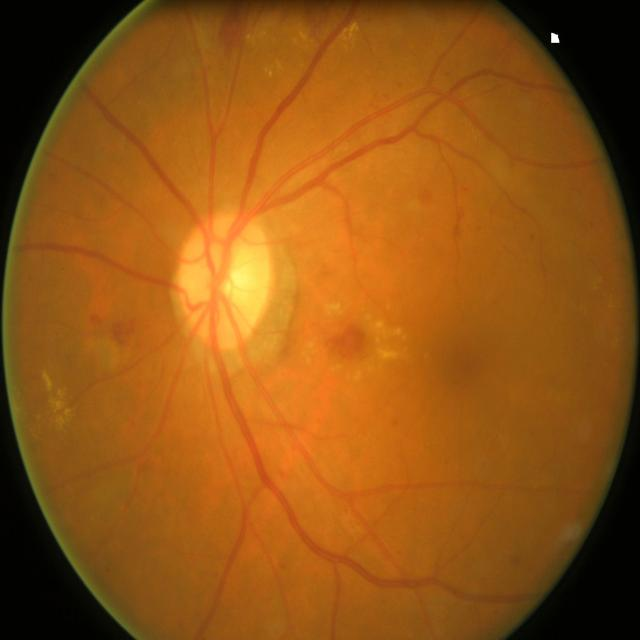OC: (222, 270, 242, 298)
OD: (173, 213, 274, 348)
